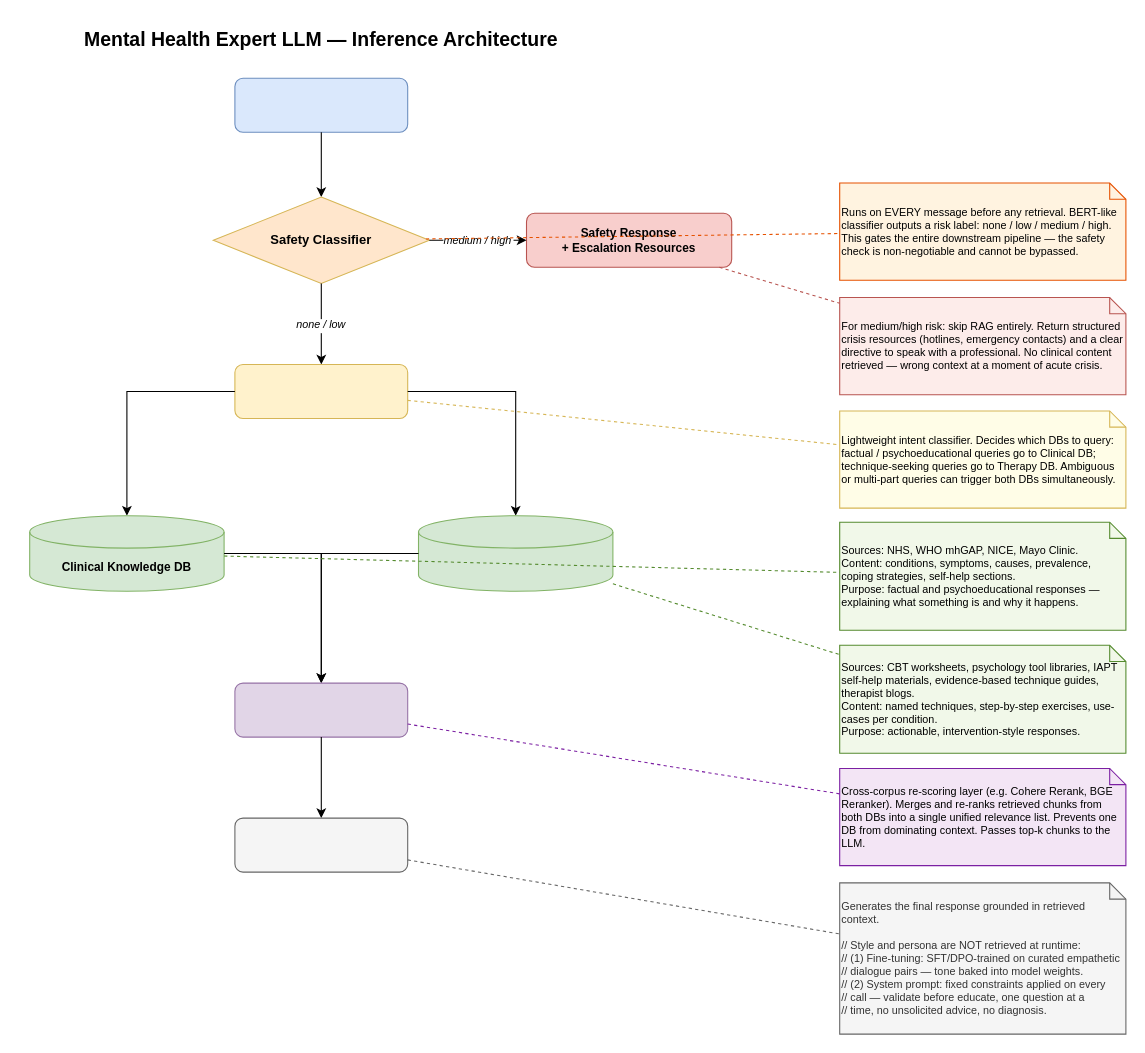
Some shapes in this 1145 by 1053 pixel diagram are drawn without their labels. The shapes that lost their labels are listed below. From the top down, each one's box as (x1, y1, x2, y2) in pixels, then its label:
(234, 77, 408, 132): User Message
(234, 363, 408, 418): Query Router
(417, 515, 613, 591): Therapy Techniques DB
(234, 682, 408, 737): Reranker
(234, 817, 408, 872): LLM
